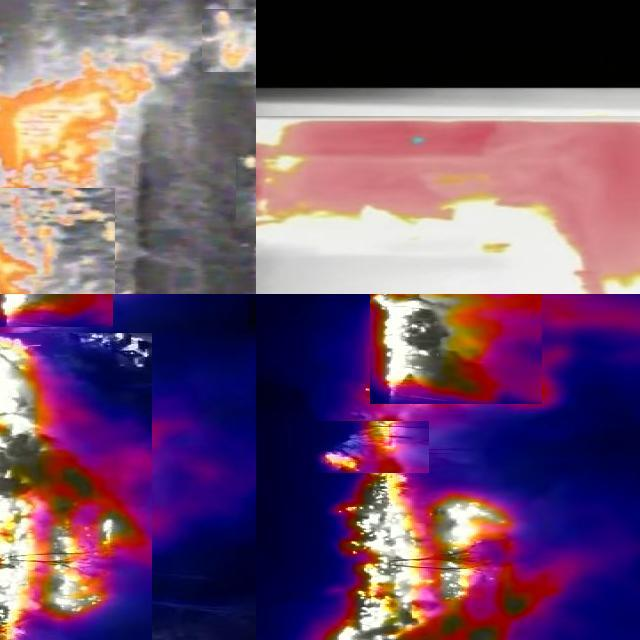fire: (257, 117, 640, 295), (1, 334, 152, 640), (317, 474, 538, 640), (1, 46, 189, 190), (370, 295, 542, 405), (1, 189, 115, 295), (313, 422, 429, 474), (1, 295, 113, 328), (202, 10, 257, 73), (236, 155, 257, 229)
